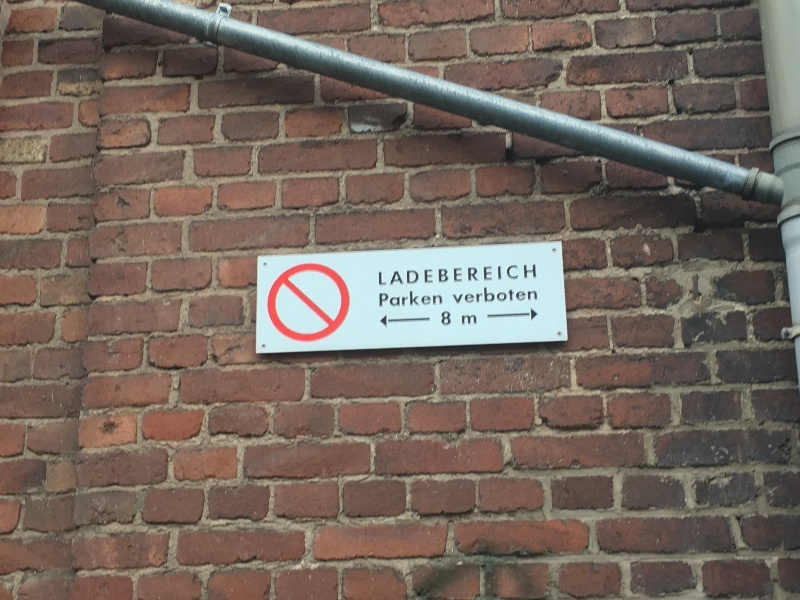text: (385, 264, 400, 287), (401, 264, 416, 287), (417, 264, 432, 287), (433, 264, 448, 287), (449, 264, 464, 287), (465, 264, 480, 287), (481, 264, 496, 287), (497, 264, 512, 287), (513, 264, 528, 287), (449, 285, 464, 305), (465, 285, 480, 305), (481, 285, 496, 305), (497, 285, 512, 305), (513, 285, 528, 305), (385, 290, 400, 308), (401, 290, 416, 308), (417, 290, 432, 308), (449, 310, 464, 326), (465, 310, 477, 326), (529, 264, 537, 287), (529, 285, 538, 305), (433, 290, 443, 308), (378, 264, 384, 287), (441, 310, 448, 326), (379, 290, 384, 308)
